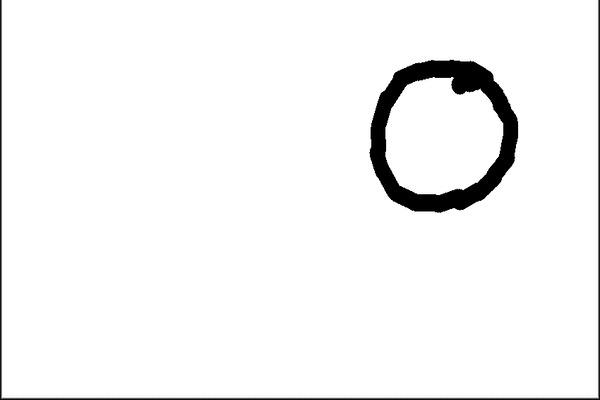O: (356, 48, 525, 231)
